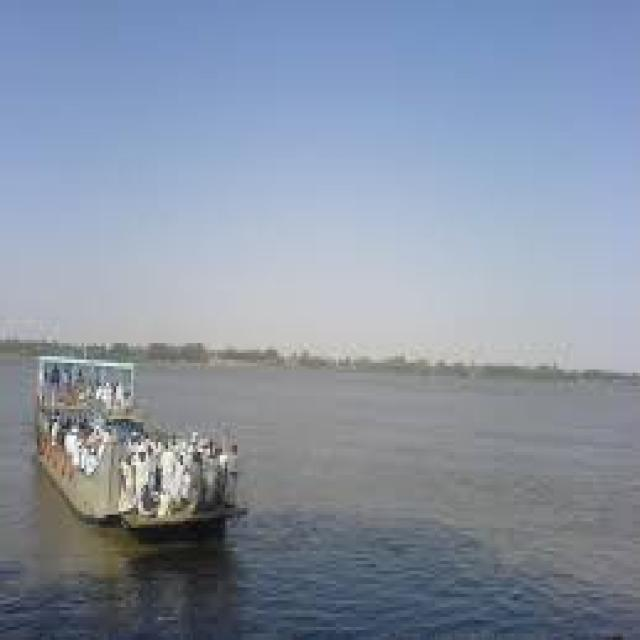houseboat: (24, 334, 243, 540)
